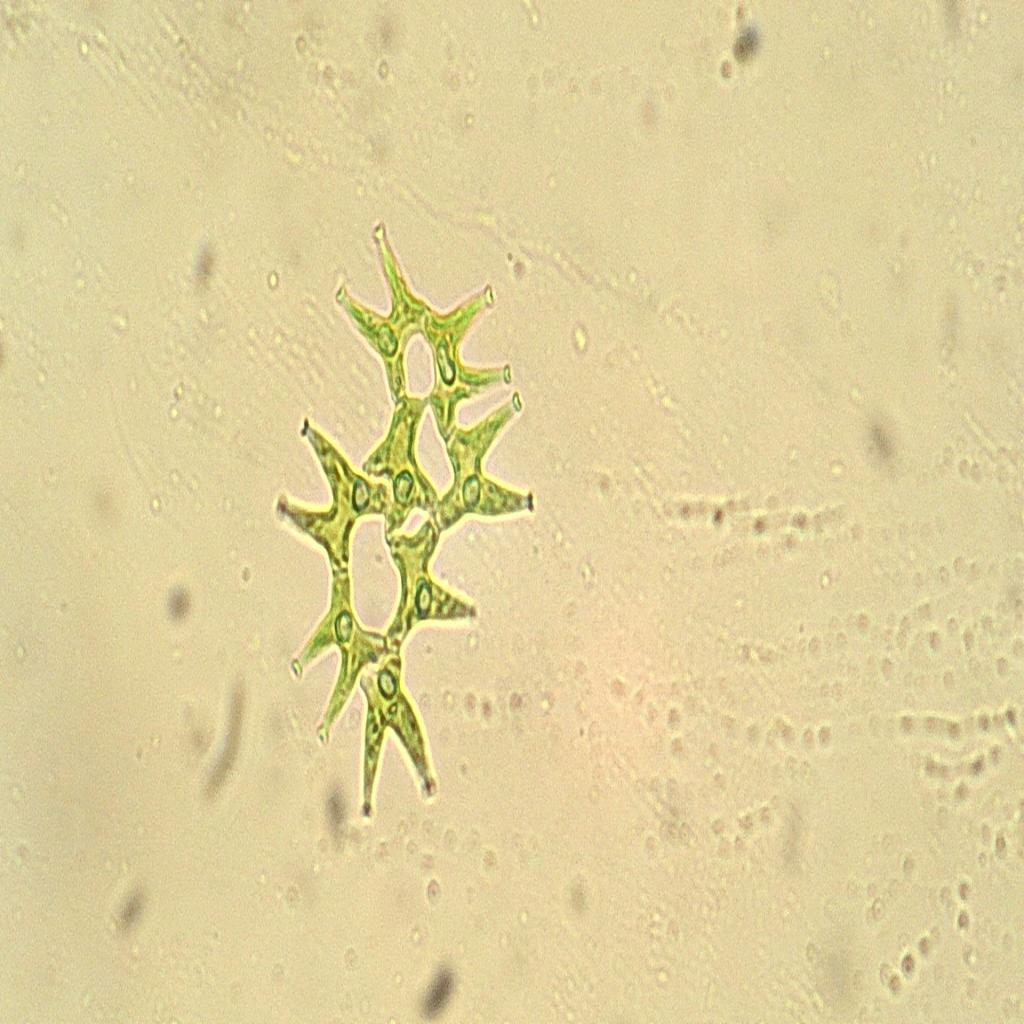Pediastrum_1TH: (263, 178, 547, 855)
